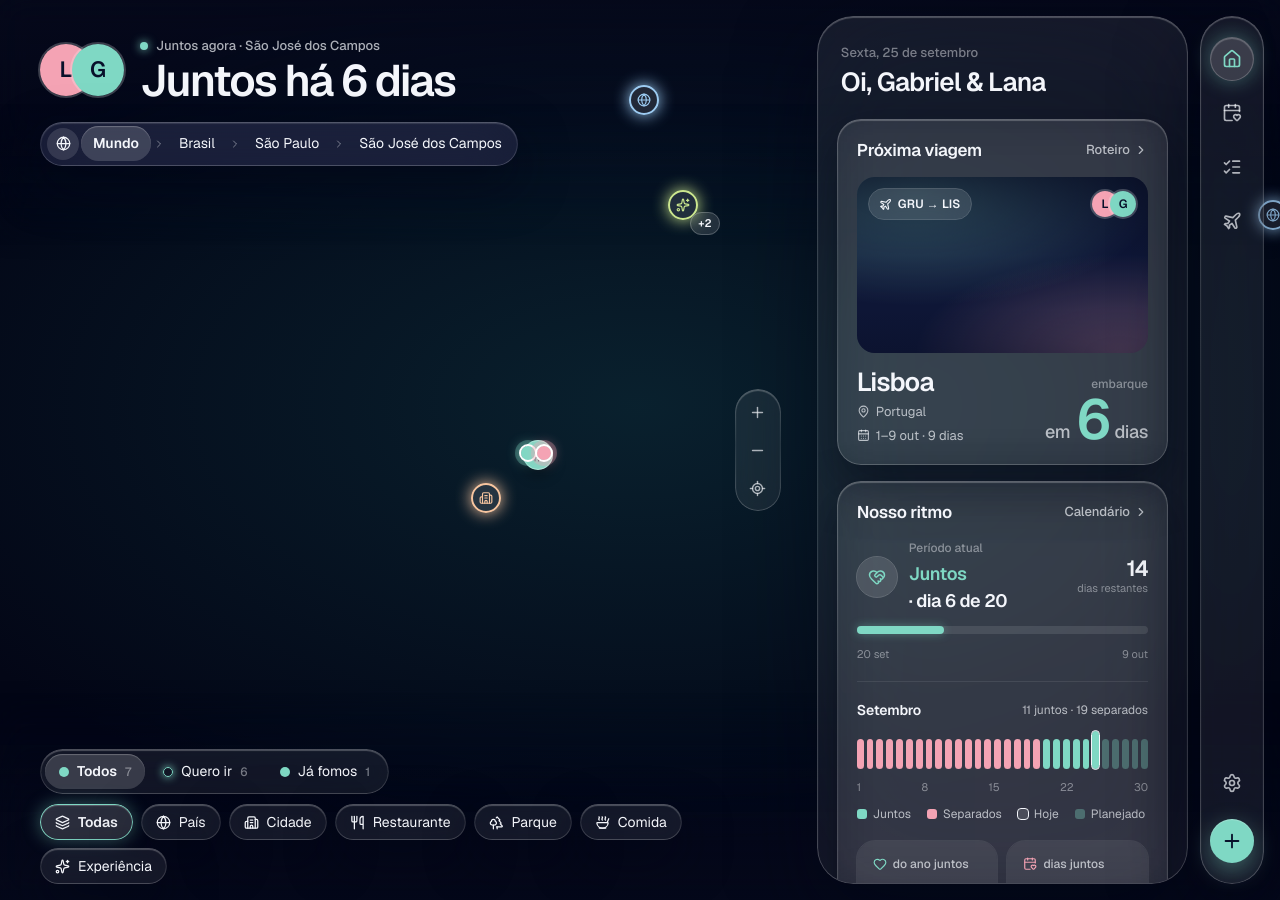
Scenario: A12 — rotas › clicar em Configurações vai para a primeira aba
The width and height of the screenshot is (1280, 900).
What coordinates should you click on to do the following:
click the link named "Configurações"
I would click on:
 (1232, 783)
Its box is x1=1210 y1=761 x2=1254 y2=805.
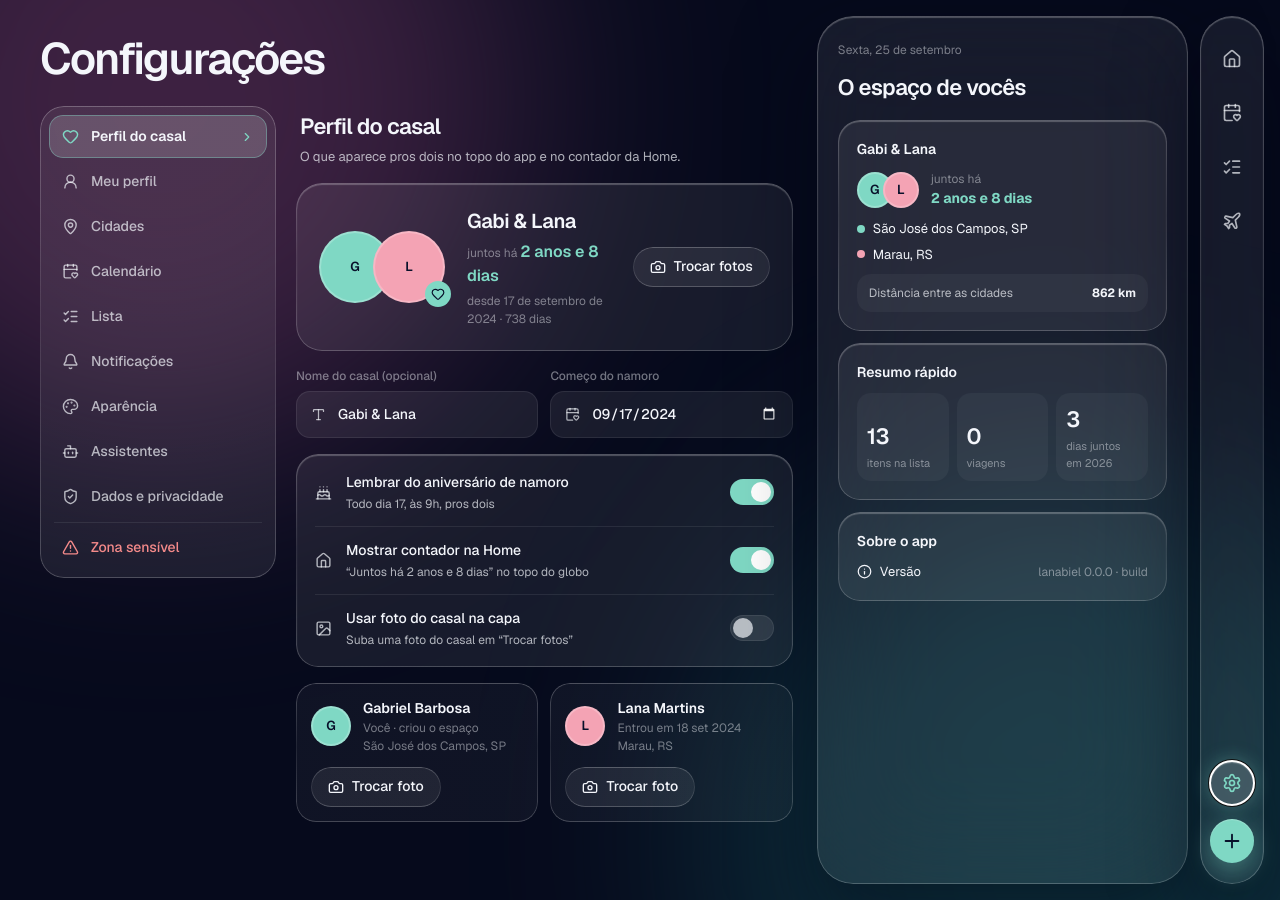
expect the heading "Configurações" is shown: met, box x1=40 y1=36 x2=324 y2=82
